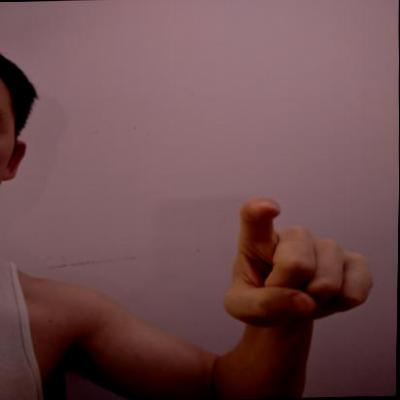hand: (219, 190, 379, 332)
